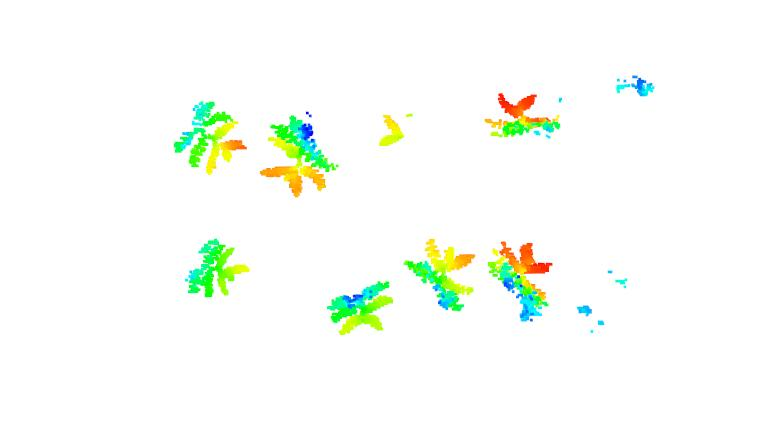chickpea: (259, 114, 335, 199), (488, 241, 556, 324), (171, 102, 246, 174), (404, 237, 474, 311), (482, 88, 562, 142), (184, 239, 250, 299), (328, 280, 394, 334), (377, 112, 404, 148)
